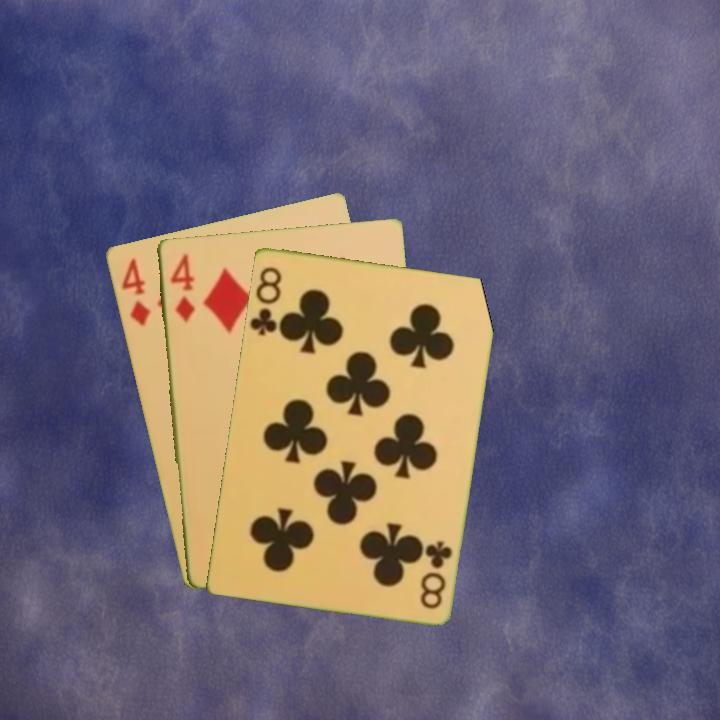4d: (117, 254, 154, 329), (166, 250, 197, 326)
8c: (416, 536, 455, 612), (247, 263, 284, 338)
